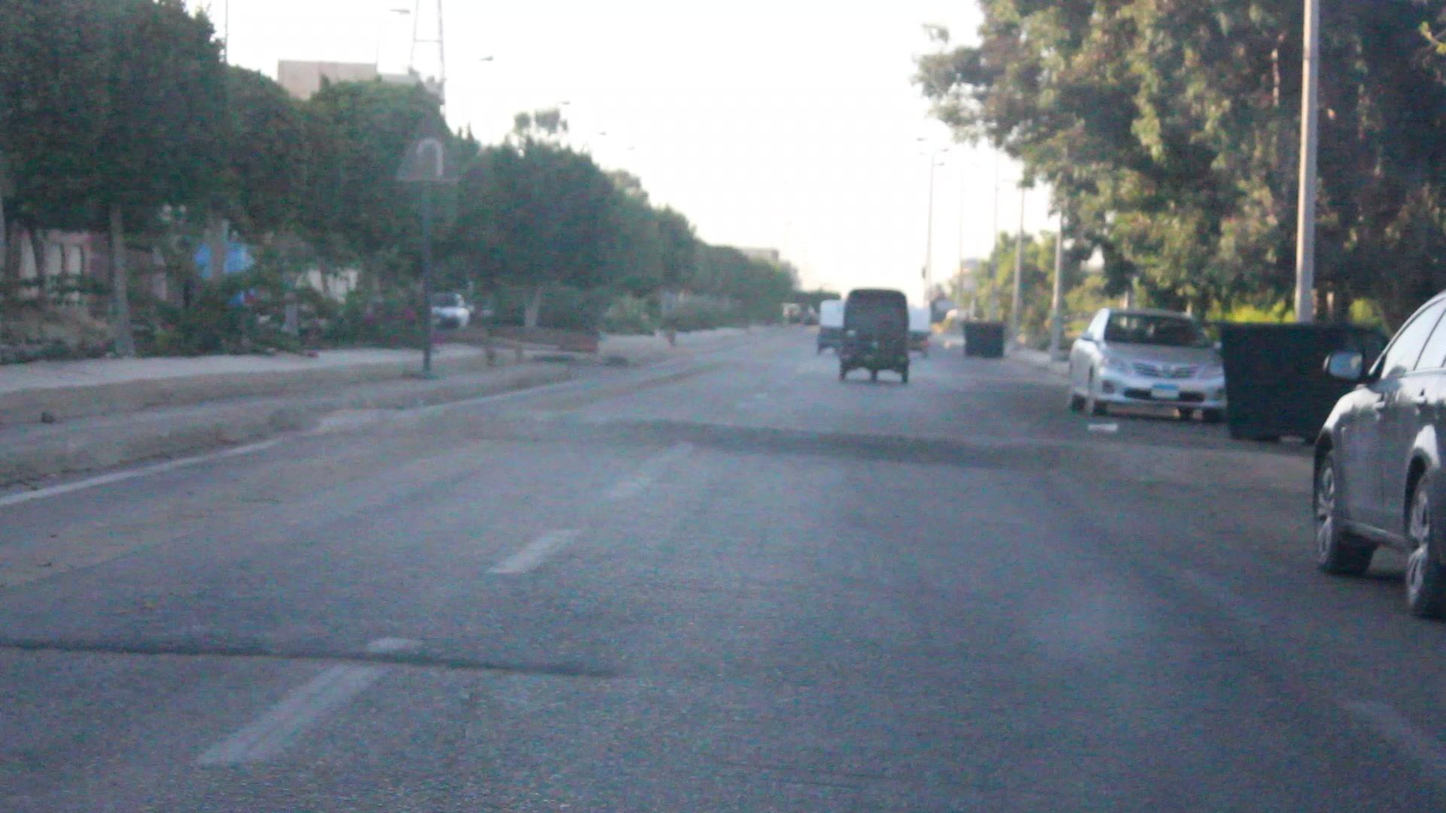Bump: (290, 397, 1310, 493)
